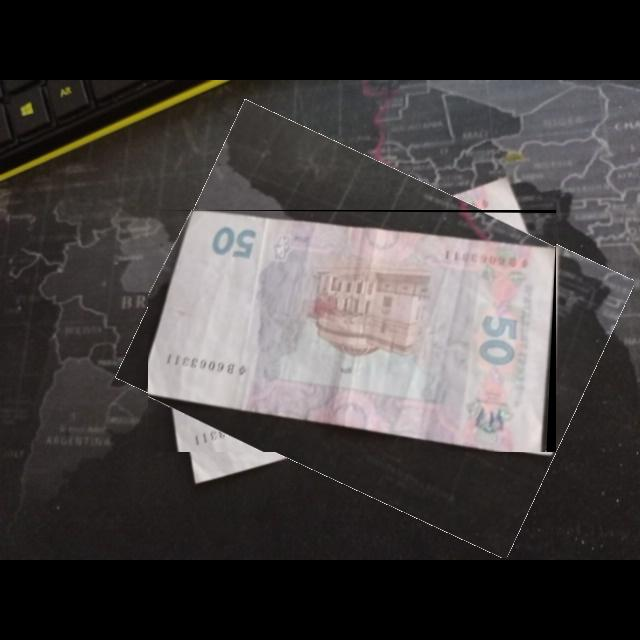50uah: (148, 211, 556, 453)
